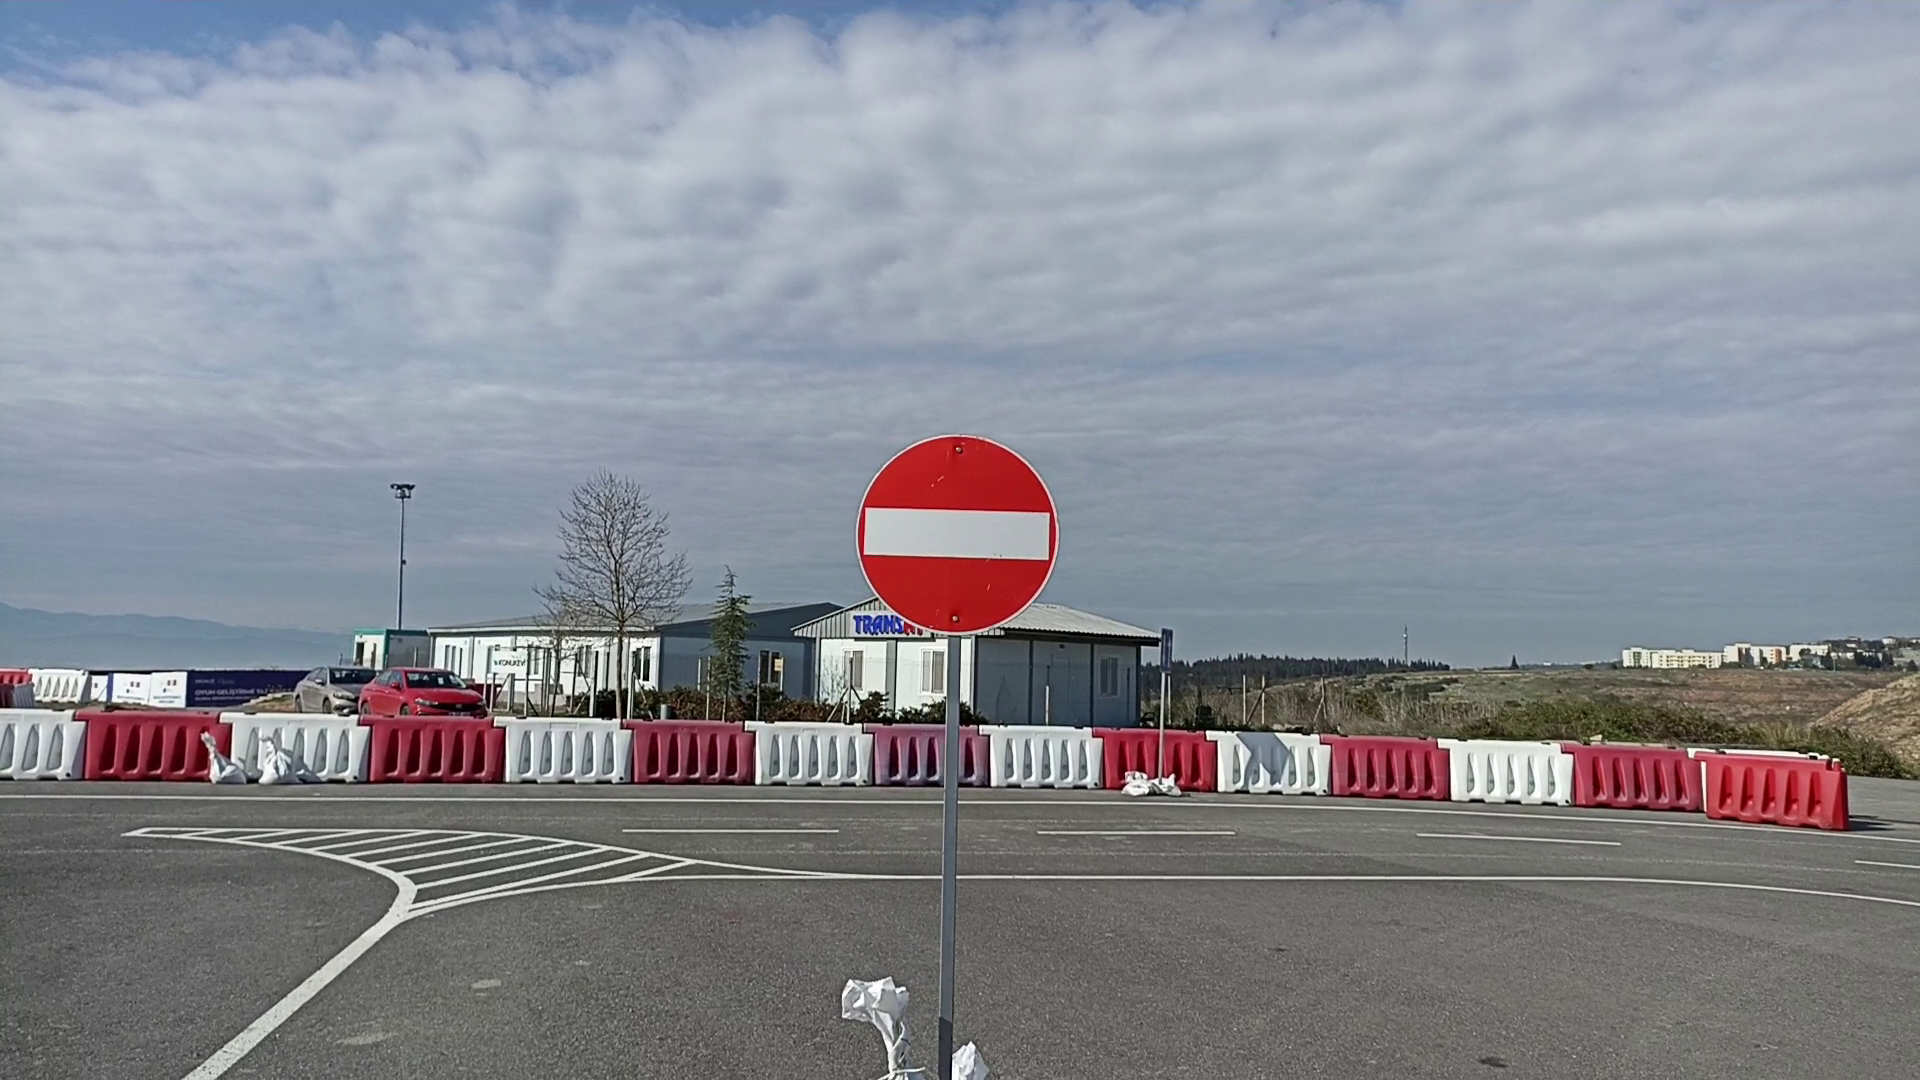noentryway: (851, 431, 1065, 638)
